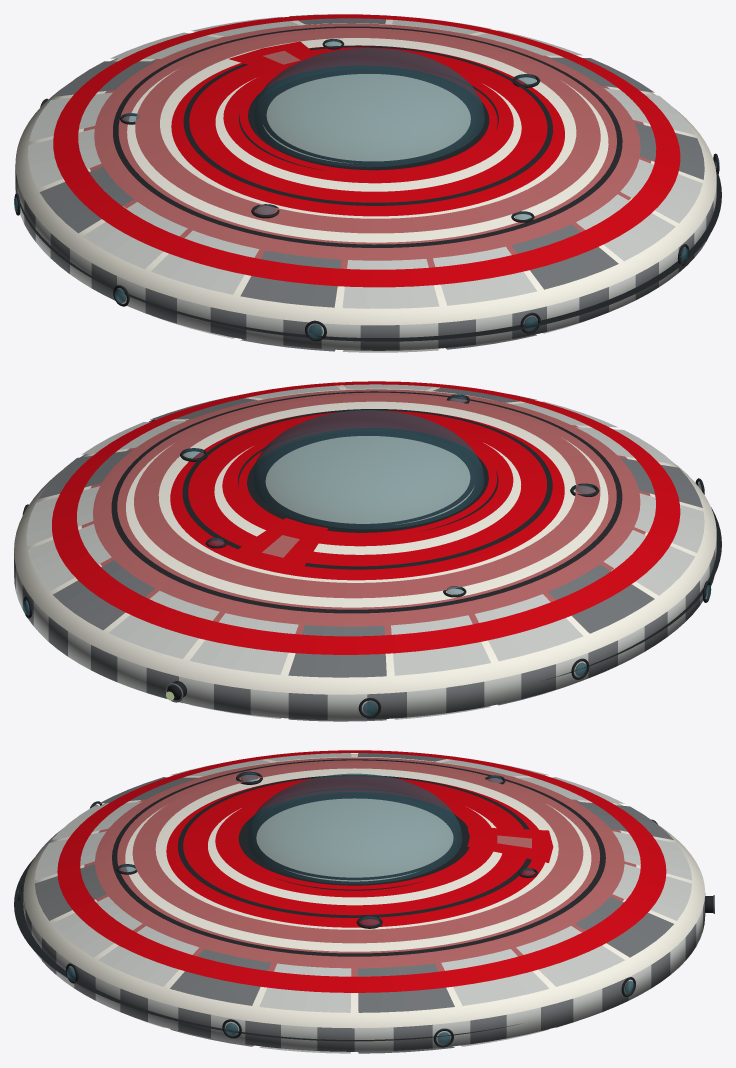
Rendered from Ship_FlyingSaucer_336064.glb.
The picture shows the model from 3 angles, top to bottom: view 1: azimuth 30°, elevation 25°; view 2: azimuth 150°, elevation 25°; view 3: azimuth 270°, elevation 25°; orthographic projection. The views are drawn at different scales.
Parts seen in each view (by area): view 1: Hull_LenticularThickDiscBody, CommandDomeGlass_CenteredFlattenedDome, PaintRing_Top_03_ConcentricBand, PaintRing_Top_02_ConcentricBand, PaintRing_Top_01_ConcentricBand, CommandDomeFrame_UpperCircularRim, PanelRing_Top_03_DarkInsetLine, EquatorBand_DarkContinuousRimSeam, PanelRing_Top_02_DarkInsetLine, RimArmorSegment_14_UpperHullPlate, RimArmorSegment_13_UpperHullPlate, RimArmorSegment_15_UpperHullPlate (+17 smaller); view 2: Hull_LenticularThickDiscBody, CommandDomeGlass_CenteredFlattenedDome, PaintRing_Top_03_ConcentricBand, PaintRing_Top_02_ConcentricBand, PaintRing_Top_01_ConcentricBand, PanelRing_Top_03_DarkInsetLine, CommandDomeFrame_UpperCircularRim, RimArmorSegment_07_UpperHullPlate, RimArmorSegment_08_UpperHullPlate, PanelRing_Top_02_DarkInsetLine, RimArmorSegment_06_UpperHullPlate, RimArmorSegment_09_UpperHullPlate (+16 smaller); view 3: Hull_LenticularThickDiscBody, CommandDomeGlass_CenteredFlattenedDome, PaintRing_Top_03_ConcentricBand, PaintRing_Top_02_ConcentricBand, PaintRing_Top_01_ConcentricBand, PanelRing_Top_03_DarkInsetLine, CommandDomeFrame_UpperCircularRim, RimArmorSegment_01_UpperHullPlate, PanelRing_Top_02_DarkInsetLine, RimArmorSegment_02_UpperHullPlate, RimArmorSegment_20_UpperHullPlate, RimArmorSegment_19_UpperHullPlate (+15 smaller).
Boxes of the visible parts, <box> form: Hull_LenticularThickDiscBody: <box>15,19,716,350</box>; CommandDomeGlass_CenteredFlattenedDome: <box>253,48,484,167</box>; PaintRing_Top_03_ConcentricBand: <box>53,14,680,287</box>; PaintRing_Top_02_ConcentricBand: <box>135,31,600,233</box>; PaintRing_Top_01_ConcentricBand: <box>223,57,513,183</box>; CommandDomeFrame_UpperCircularRim: <box>239,66,498,170</box>; PanelRing_Top_03_DarkInsetLine: <box>113,26,622,247</box>; EquatorBand_DarkContinuousRimSeam: <box>15,166,721,341</box>; PanelRing_Top_02_DarkInsetLine: <box>183,45,552,205</box>; RimArmorSegment_14_UpperHullPlate: <box>342,258,439,308</box>; RimArmorSegment_13_UpperHullPlate: <box>240,250,341,307</box>; RimArmorSegment_15_UpperHullPlate: <box>433,246,536,305</box>; Hull_LenticularThickDiscBody: <box>14,385,716,720</box>; CommandDomeGlass_CenteredFlattenedDome: <box>252,410,484,529</box>; PaintRing_Top_03_ConcentricBand: <box>52,381,680,654</box>; PaintRing_Top_02_ConcentricBand: <box>134,395,600,598</box>; PaintRing_Top_01_ConcentricBand: <box>222,420,513,546</box>; PanelRing_Top_03_DarkInsetLine: <box>111,391,622,613</box>; CommandDomeFrame_UpperCircularRim: <box>238,428,498,532</box>; RimArmorSegment_07_UpperHullPlate: <box>288,625,386,677</box>; RimArmorSegment_08_UpperHullPlate: <box>391,615,490,675</box>; PanelRing_Top_02_DarkInsetLine: <box>182,409,552,569</box>; RimArmorSegment_06_UpperHullPlate: <box>190,613,298,674</box>; RimArmorSegment_09_UpperHullPlate: <box>475,594,583,661</box>; Hull_LenticularThickDiscBody: <box>23,753,705,1051</box>; CommandDomeGlass_CenteredFlattenedDome: <box>246,773,462,884</box>; PaintRing_Top_03_ConcentricBand: <box>57,750,666,992</box>; PaintRing_Top_02_ConcentricBand: <box>132,763,583,943</box>; PaintRing_Top_01_ConcentricBand: <box>215,785,492,897</box>; PanelRing_Top_03_DarkInsetLine: <box>112,759,605,956</box>; CommandDomeFrame_UpperCircularRim: <box>238,789,469,890</box>; RimArmorSegment_01_UpperHullPlate: <box>357,963,454,1012</box>; PanelRing_Top_02_DarkInsetLine: <box>178,775,531,917</box>; RimArmorSegment_02_UpperHullPlate: <box>441,949,549,1005</box>; RimArmorSegment_20_UpperHullPlate: <box>259,963,351,1012</box>; RimArmorSegment_19_UpperHullPlate: <box>170,949,270,1005</box>.
Size of the model in its own units: 4.75 by 1.51 by 5.19.
